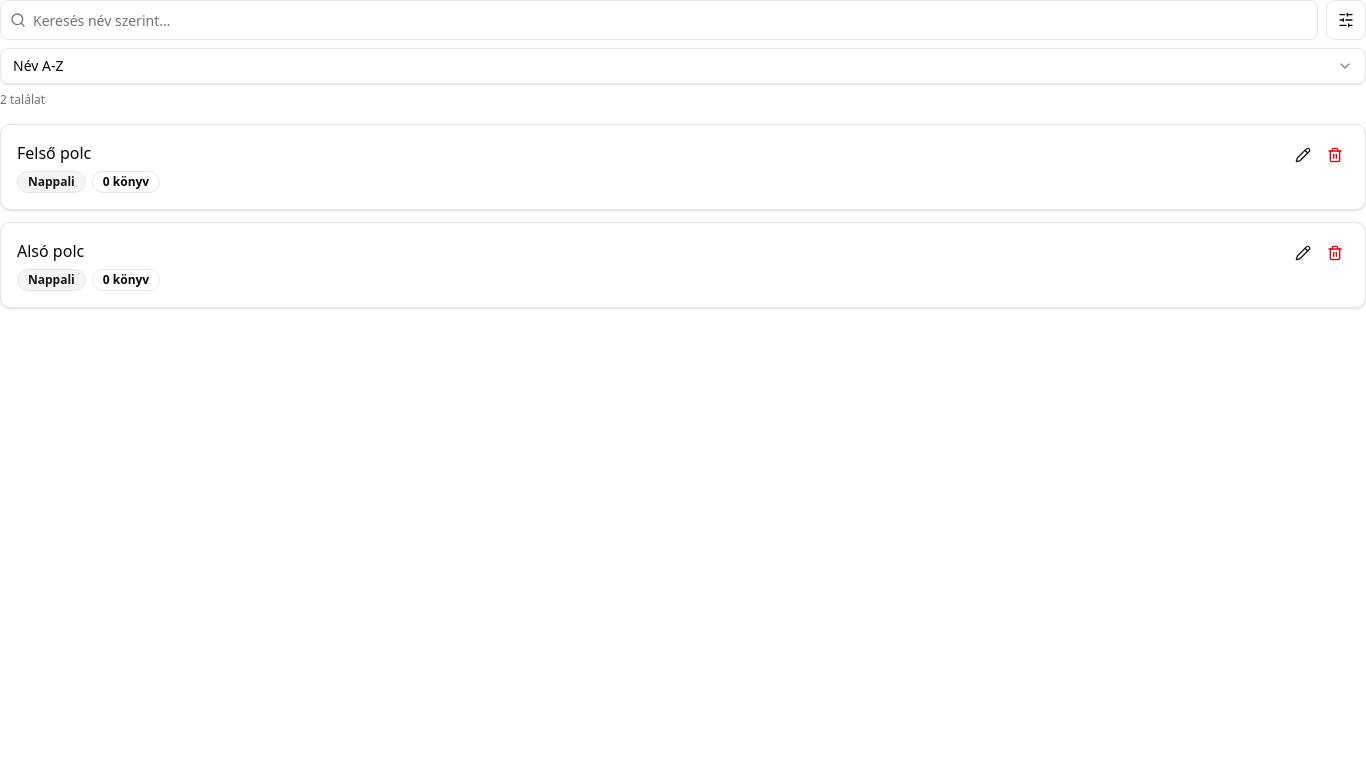
Test: LocationCardView — mutation refresh strategy › replaces the edited card in place after a successful edit, without refetching the list
Check: the text "Felső polc" is shown, box [17, 142, 91, 164]
Click the button named "Szerkesztés" in the row of "Felső polc": click(1303, 155) [1289, 141, 1317, 169]
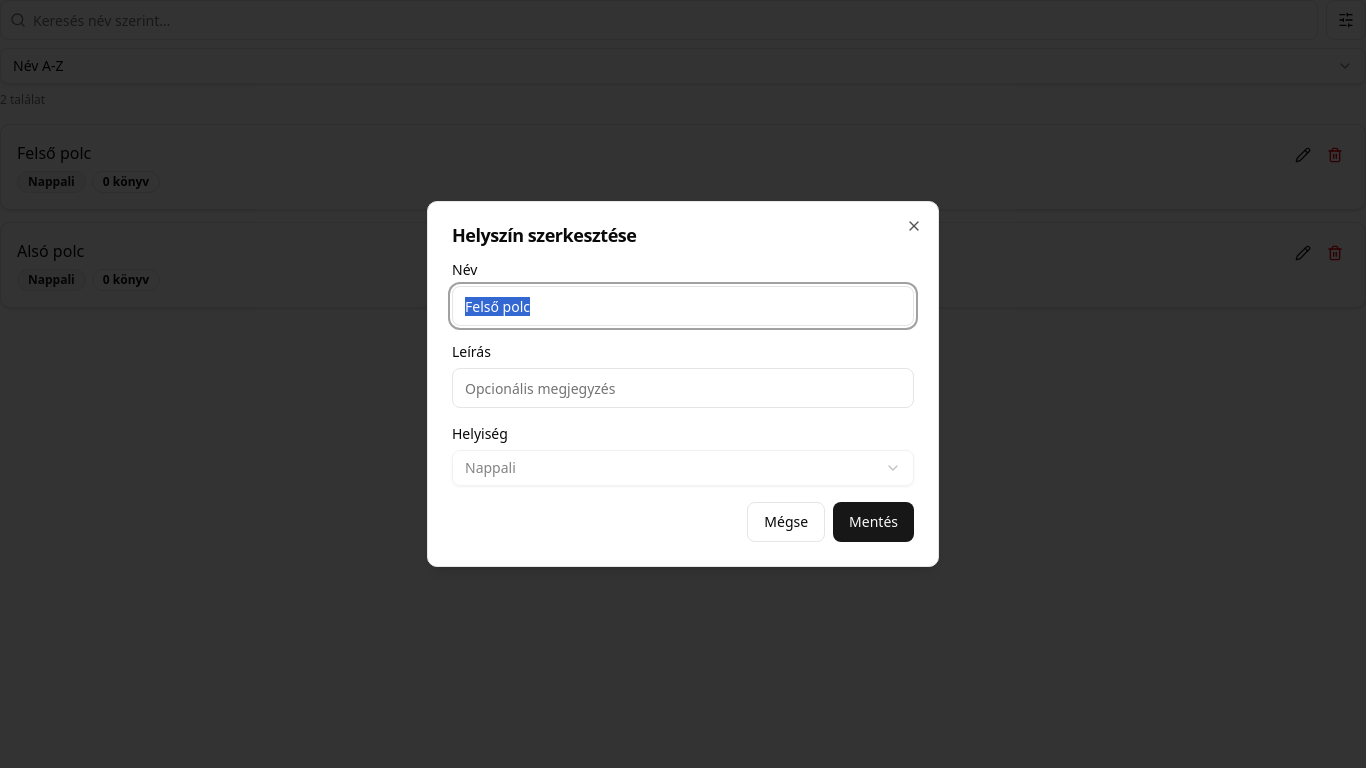
Click the button "Mentés": click(874, 522) [833, 502, 914, 542]
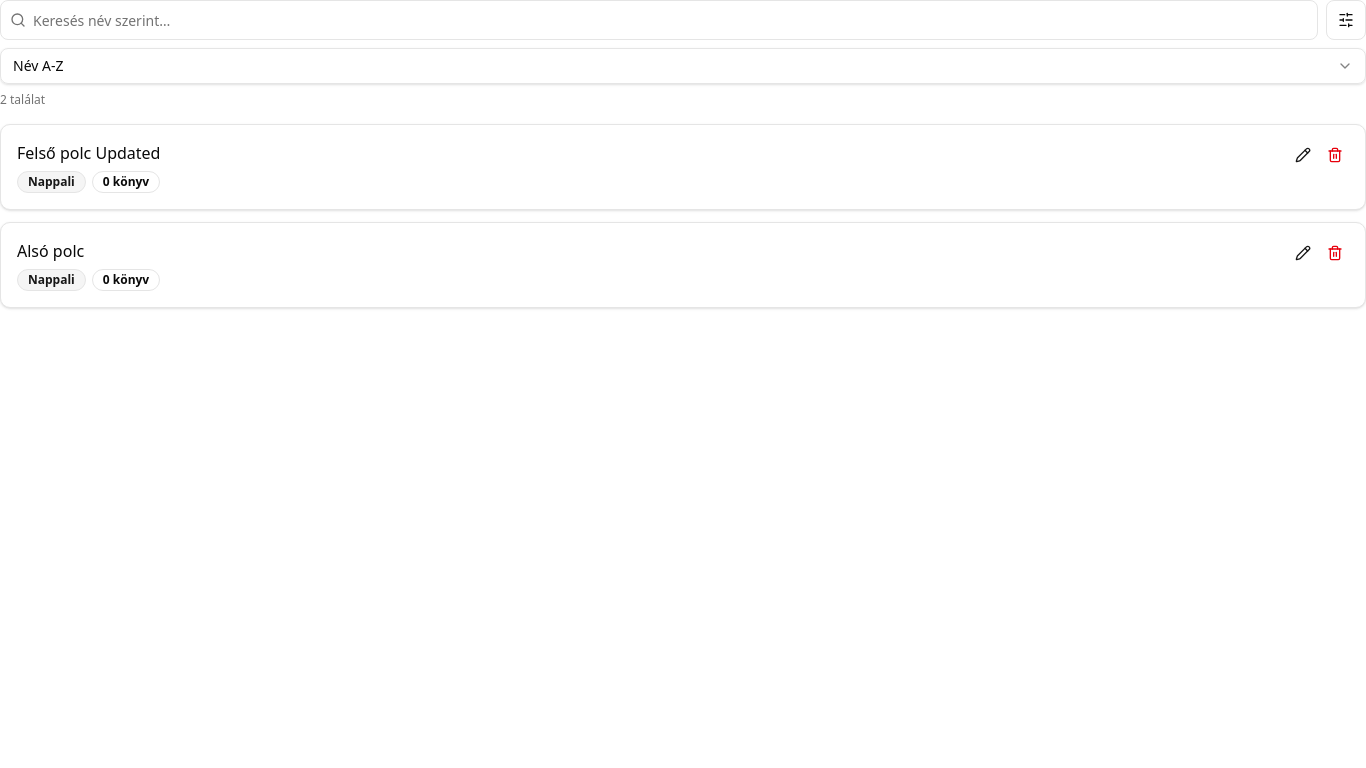
Check: the text "Alsó polc" is shown, box [17, 240, 84, 262]
Check: the text "Felső polc Updated" is shown, box [17, 141, 160, 165]
